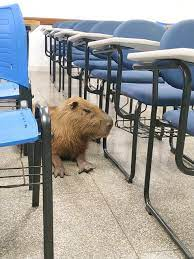capivara: (51, 97, 113, 182)
